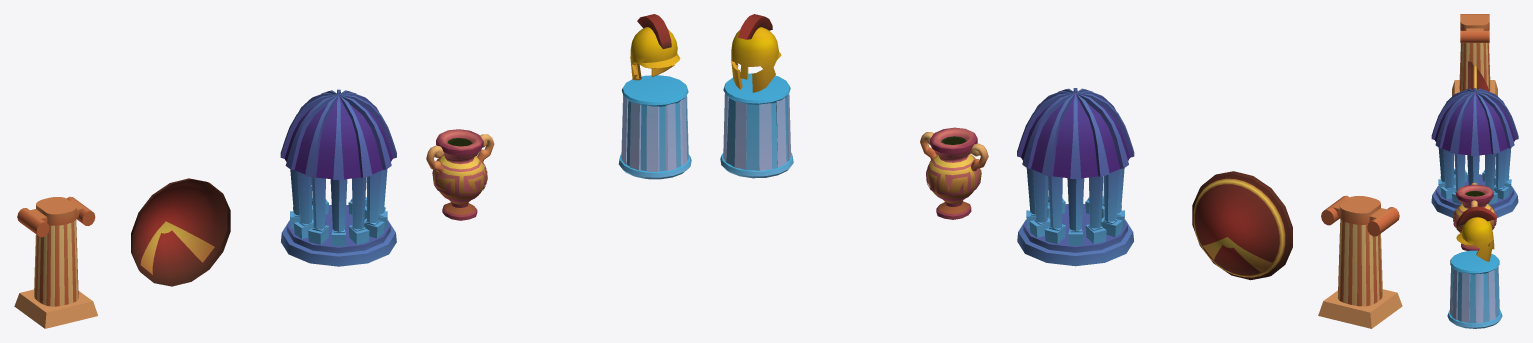
The model's file is End_t2_a2.fbx.
3 views of the same model, side by side, from view 1: azimuth 30°, elevation 25°; view 2: azimuth 150°, elevation 25°; view 3: azimuth 270°, elevation 25° (orthographic). The views are drawn at different scales.
Visible parts, largest first — view 1: End_t2_a2_v5, End_t2_a2_v2, End_t2_a2_v3, End_t2_a2_v4, End_t2_a2_v1; view 2: End_t2_a2_v5, End_t2_a2_v2, End_t2_a2_v3, End_t2_a2_v4, End_t2_a2_v1; view 3: End_t2_a2_v5, End_t2_a2_v2, End_t2_a2_v4, End_t2_a2_v1, End_t2_a2_v3.
Part boxes in pixels (x1,y1,x2,y2): End_t2_a2_v5: [280, 89, 396, 266]; End_t2_a2_v2: [618, 14, 691, 179]; End_t2_a2_v3: [131, 178, 230, 286]; End_t2_a2_v4: [14, 196, 97, 328]; End_t2_a2_v1: [426, 129, 494, 220]; End_t2_a2_v5: [1017, 88, 1134, 266]; End_t2_a2_v2: [720, 14, 793, 178]; End_t2_a2_v3: [1192, 171, 1292, 280]; End_t2_a2_v4: [1318, 195, 1402, 328]; End_t2_a2_v1: [920, 127, 988, 219]; End_t2_a2_v5: [1431, 88, 1518, 217]; End_t2_a2_v2: [1447, 206, 1502, 328]; End_t2_a2_v4: [1452, 14, 1497, 96]; End_t2_a2_v1: [1452, 182, 1496, 251]; End_t2_a2_v3: [1468, 61, 1489, 91].
Size of the model in its own units: 27.81 by 5.94 by 4.24.
